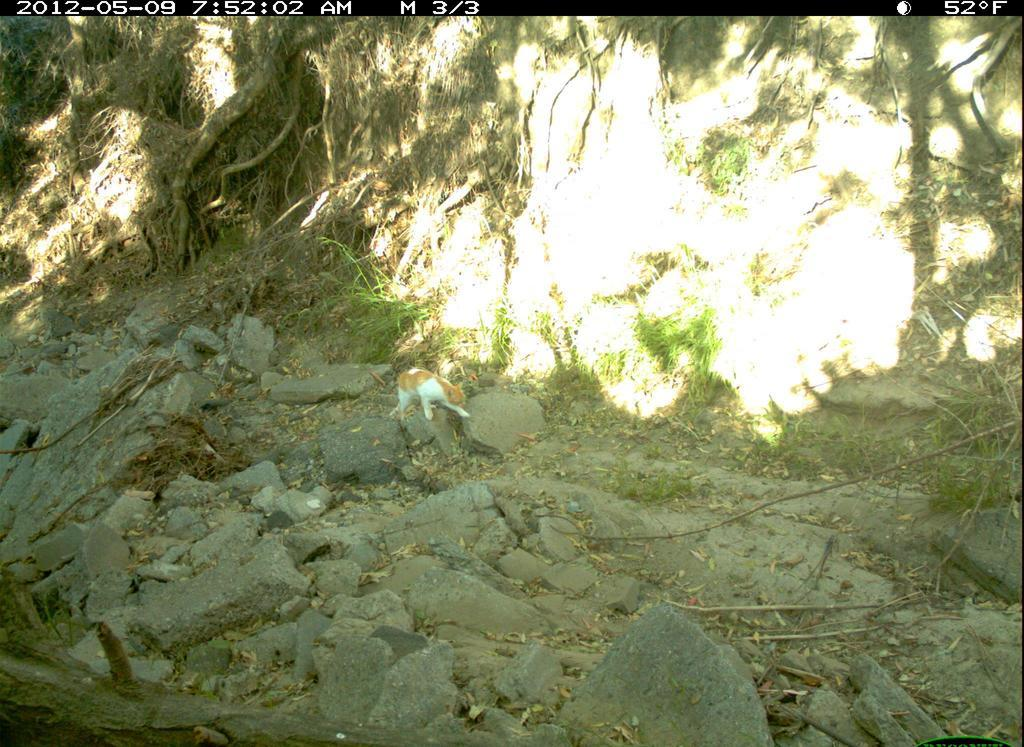cat: (387, 360, 479, 437)
